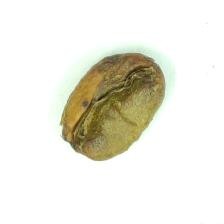NG: (108, 53, 155, 153), (63, 67, 113, 157)
